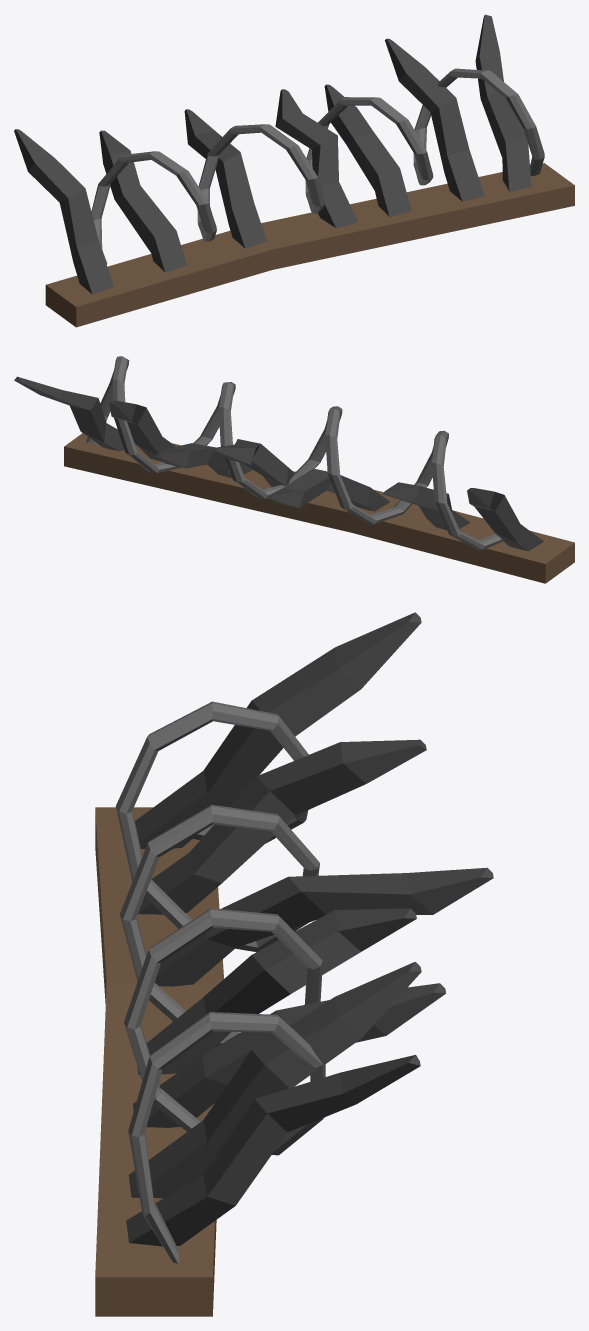
The model's file is Spikes_2.fbx.
The picture shows the model from 3 angles, top to bottom: view 1: azimuth 30°, elevation 25°; view 2: azimuth 150°, elevation 25°; view 3: azimuth 270°, elevation 25°; orthographic projection. The views are drawn at different scales.
Parts seen in each view (by area): view 1: Spikes_2; view 2: Spikes_2; view 3: Spikes_2.
Part boxes in pixels (bbox=[...]): Spikes_2: bbox=[14, 14, 574, 327]; Spikes_2: bbox=[14, 356, 574, 583]; Spikes_2: bbox=[95, 612, 493, 1316].
Bounding box in the file's own units: 3.19 × 0.8082 × 1.14.
